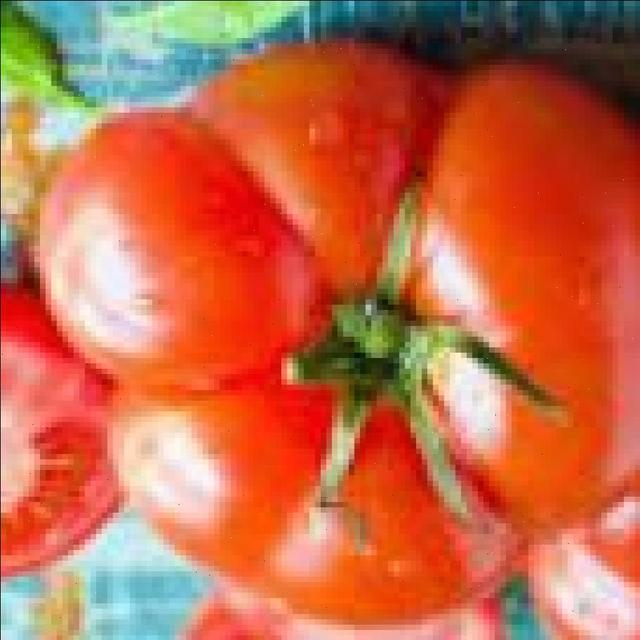Healthy Fruit: (56, 28, 427, 412)
